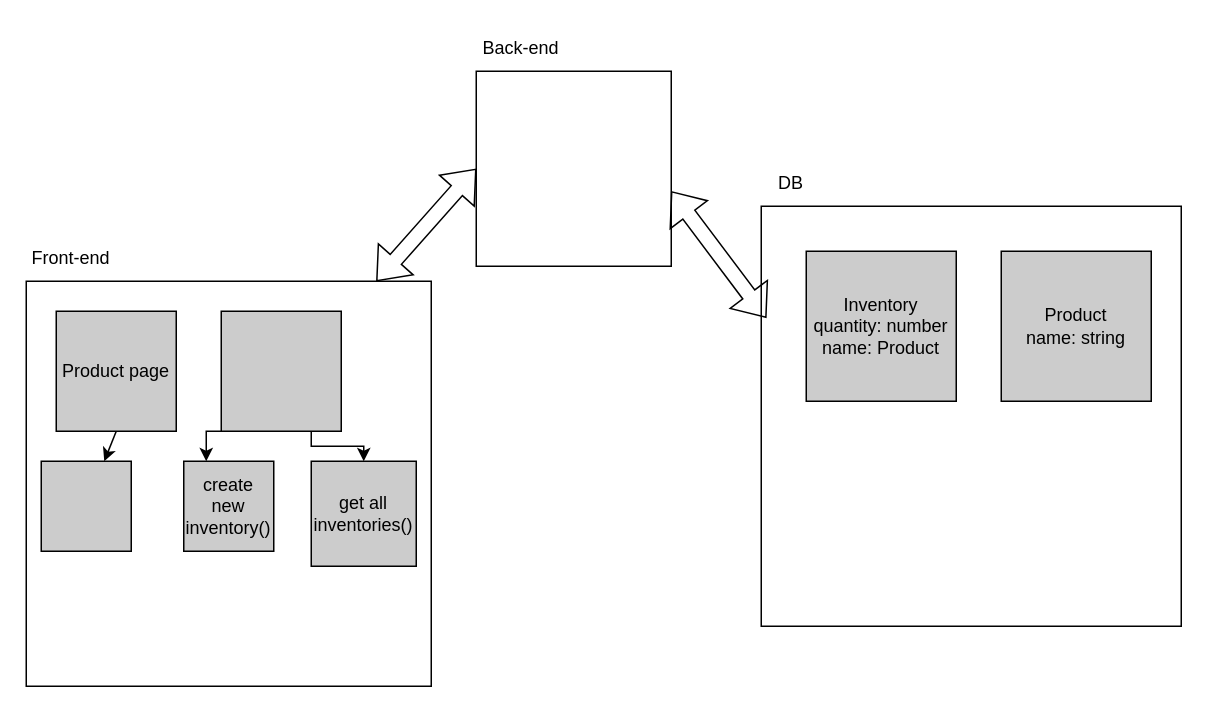
This 1208x713 diagram has some shape labels left out. Here are the shapes that lost their labels. From the top down, the centre of each, then its label:
At (x=573, y=168): "1. Inventry endpoint 2. Product endpoint".
At (x=280, y=370): "Inventory page".
At (x=85, y=505): "add new product()".
